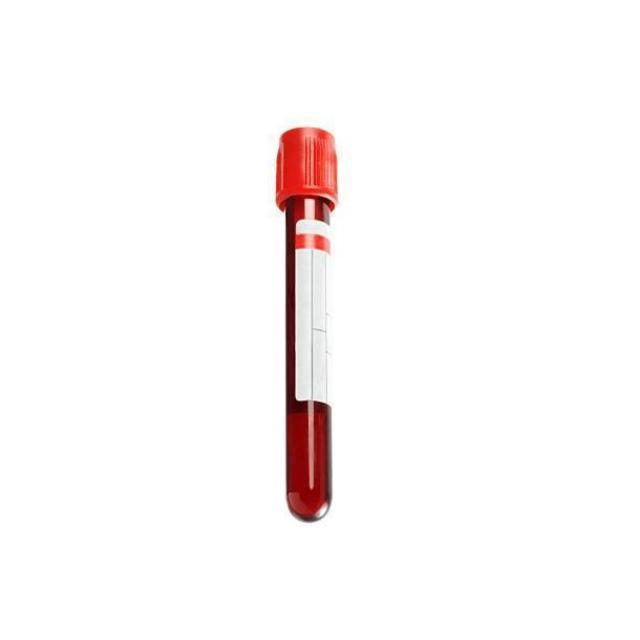blood: (285, 198, 336, 521)
